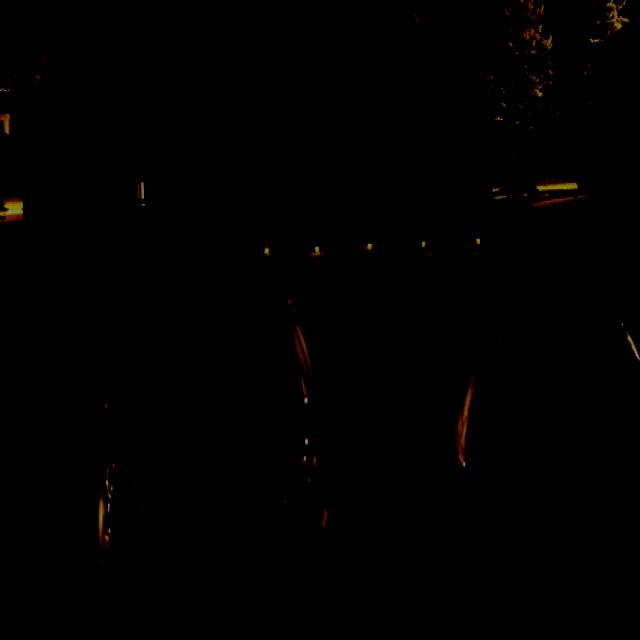Car: (105, 294, 332, 631), (444, 316, 640, 589)
